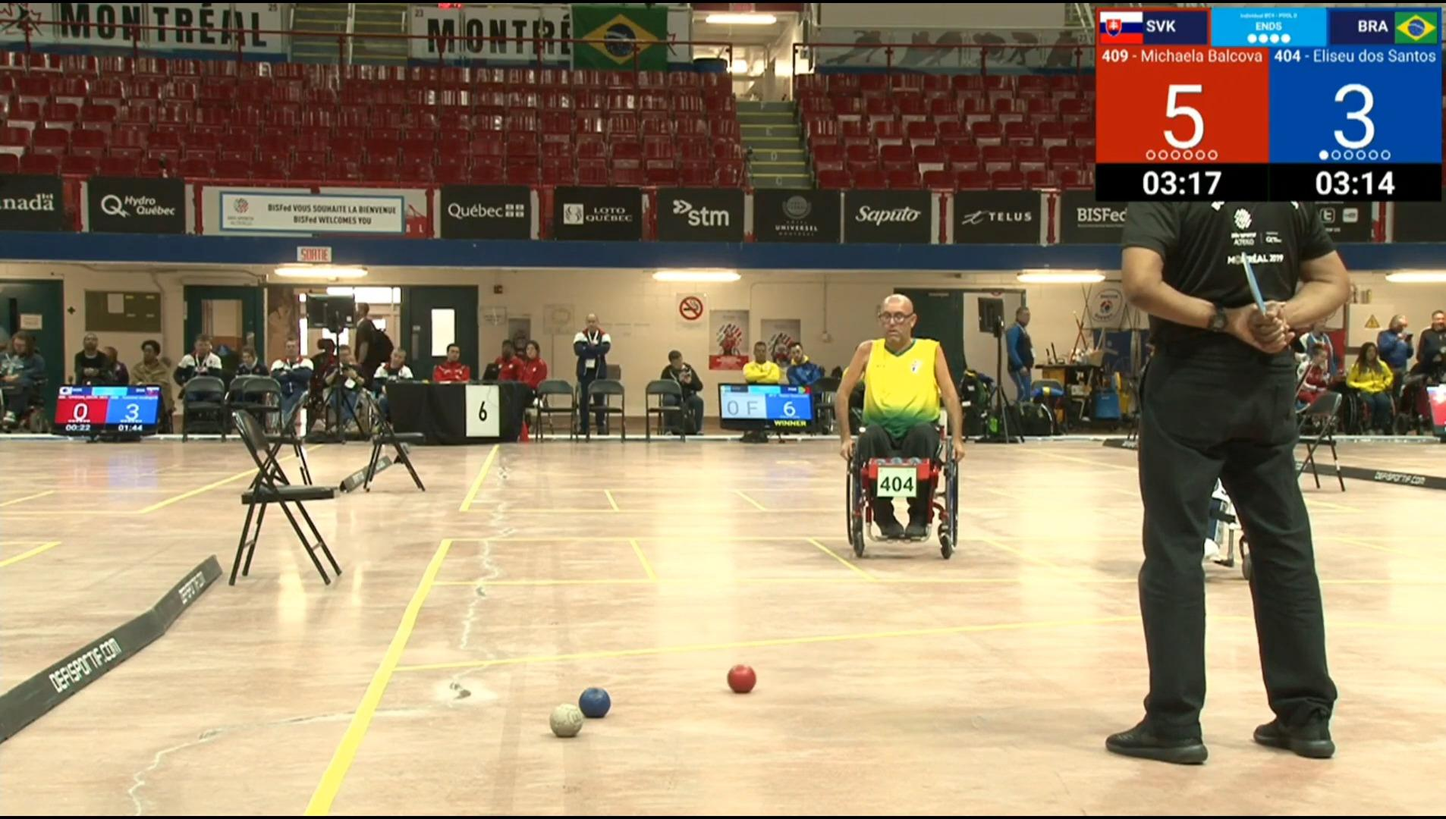blue_ball: (577, 684, 614, 721)
red_ball: (723, 661, 760, 697)
white_ball: (547, 702, 586, 742)
